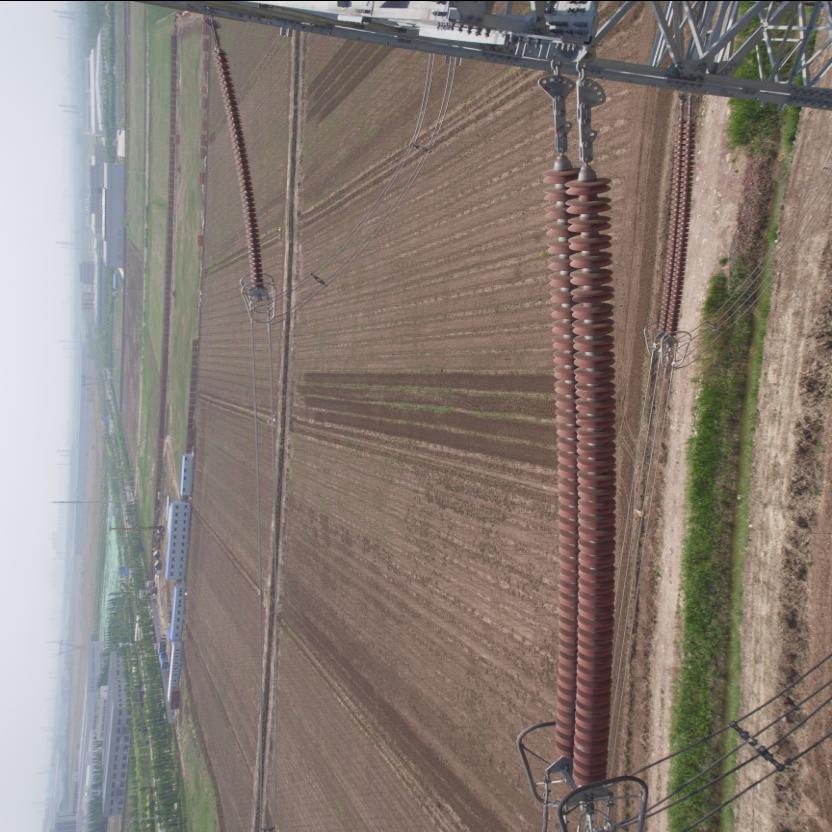insulator: (538, 112, 619, 796), (209, 30, 266, 290)
